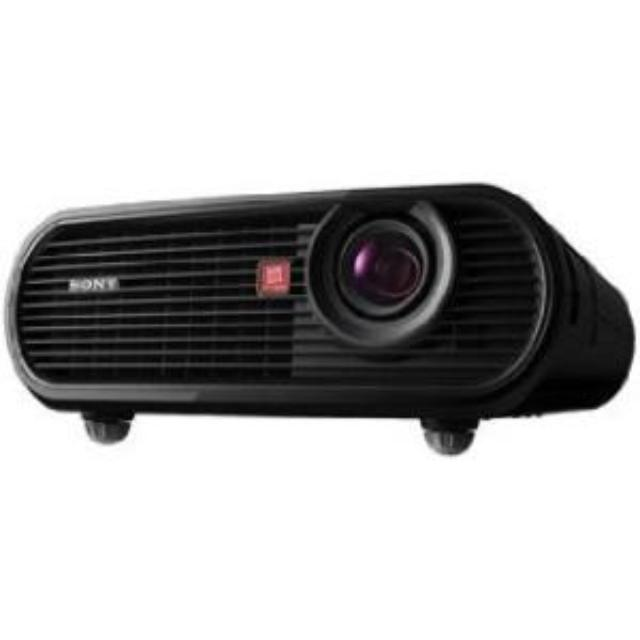Projector: (6, 180, 640, 462)
